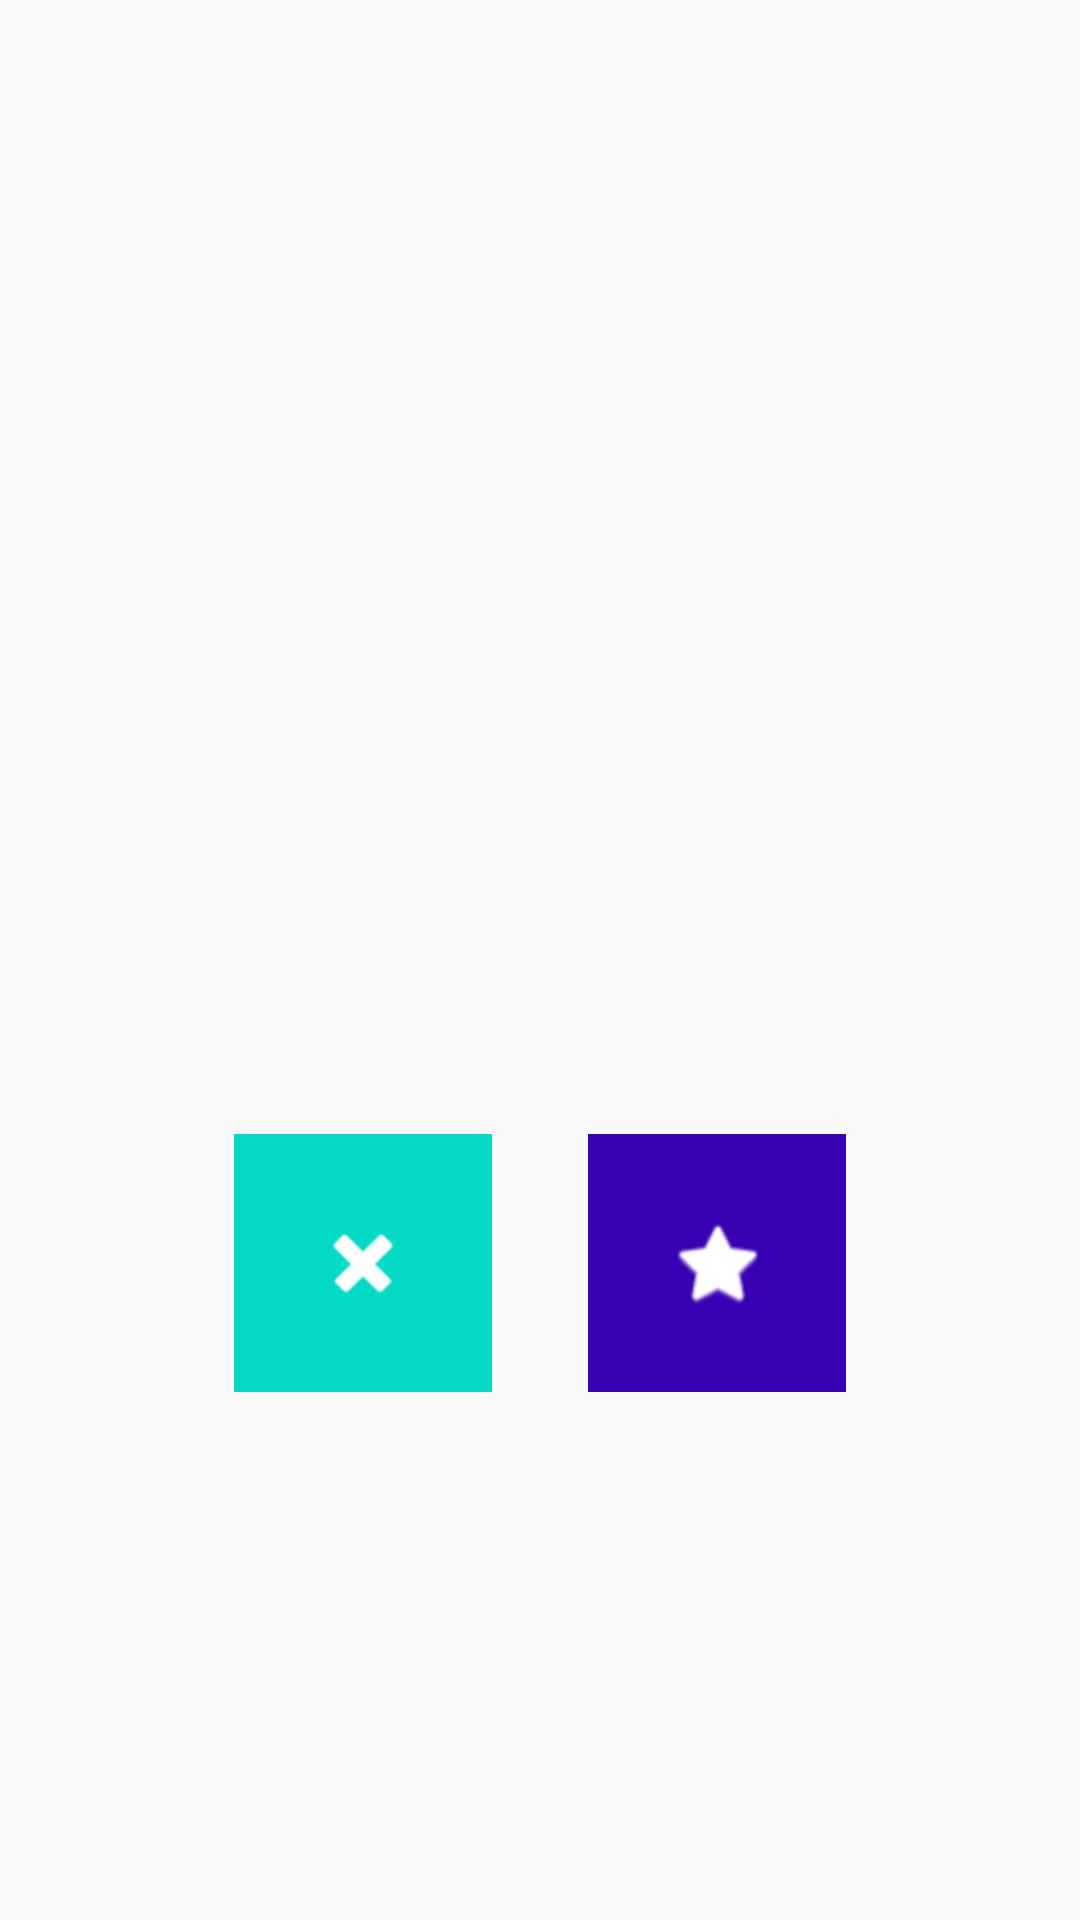

Icons on this 1080x1920 Android screen, each with its box as (x1, y1, x2, y2):
delete: (234, 1134, 492, 1392)
star on: (588, 1134, 846, 1392)
